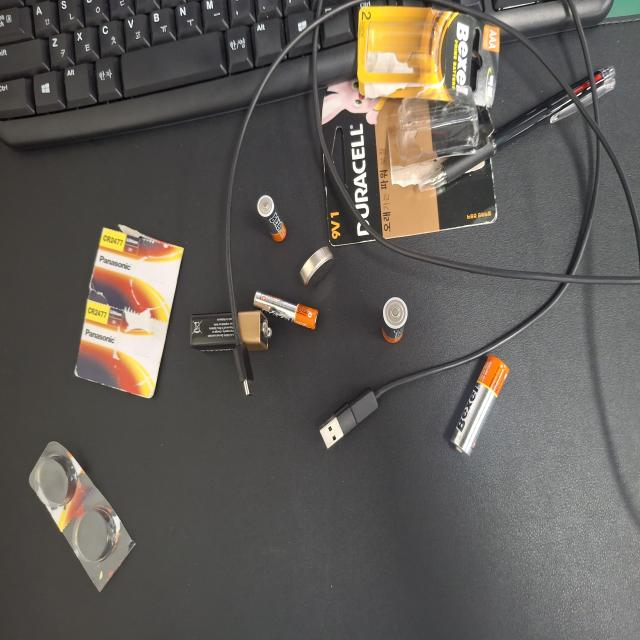9V: (232, 491, 265, 603)
AA: (265, 175, 342, 256), (223, 309, 258, 346)
AAA: (218, 431, 248, 510), (146, 470, 181, 512)
COIN: (184, 409, 216, 450)
